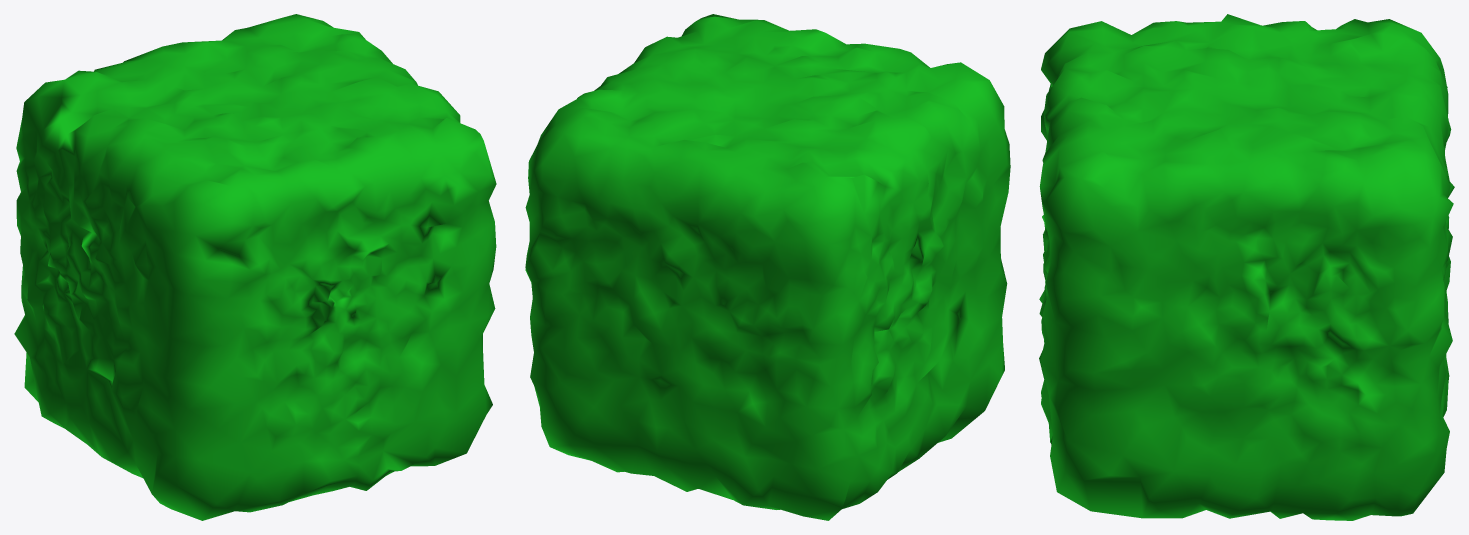
The model's file is cube-rough-grass.obj.
3 views of the same model, side by side, from view 1: azimuth 30°, elevation 25°; view 2: azimuth 150°, elevation 25°; view 3: azimuth 270°, elevation 25° (orthographic). The views are drawn at different scales.
Parts seen in each view (by area): view 1: cube-rough; view 2: cube-rough; view 3: cube-rough.
Boxes of the visible parts, <box> form: cube-rough: <box>14,14,496,520</box>; cube-rough: <box>525,14,1010,520</box>; cube-rough: <box>1039,14,1454,520</box>.
Size of the model in its own units: 0.6974 by 0.6975 by 0.6954.
1 material, 1 textured.
